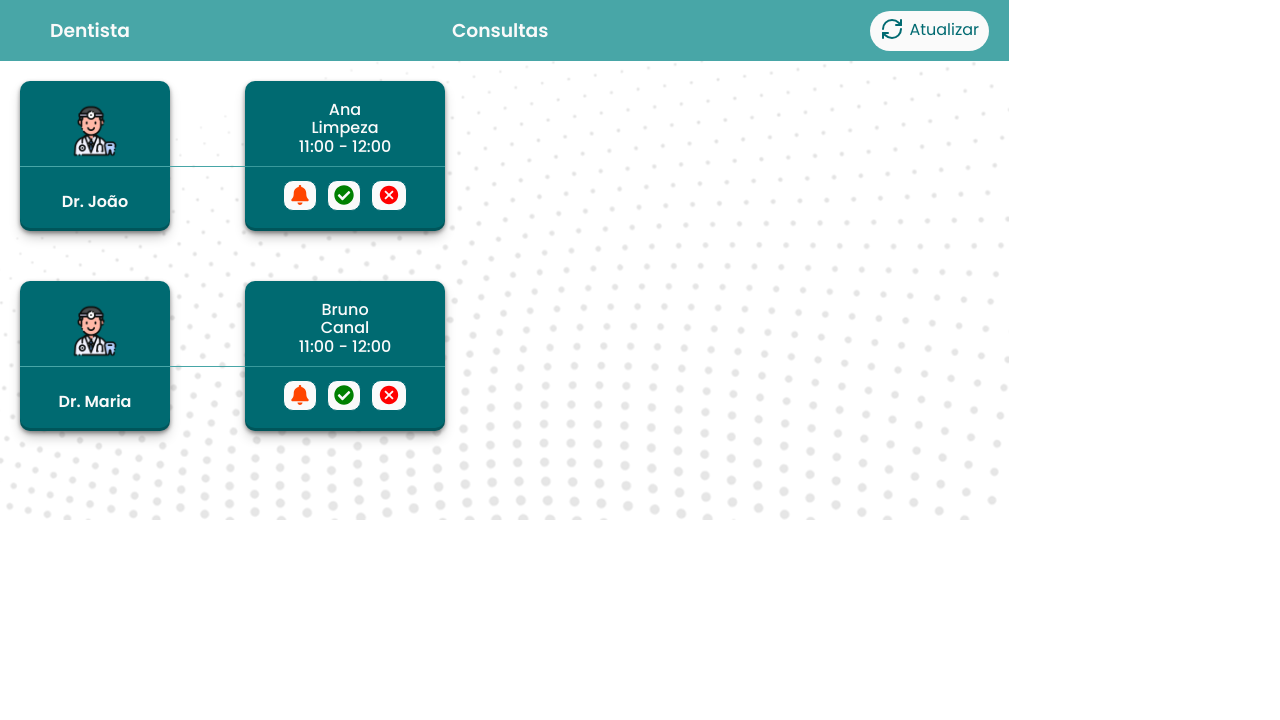
Scenario: Dashboard do Recepcionista - Resume › abre o modal com type = FINISH e dados da consulta ao clicar no botão finalizar
Note: Aguarda renderização do botão
Click the button titled "Confirmar conclusão da consulta" below "Limpeza" at x=344, y=195, box [327, 180, 361, 211]
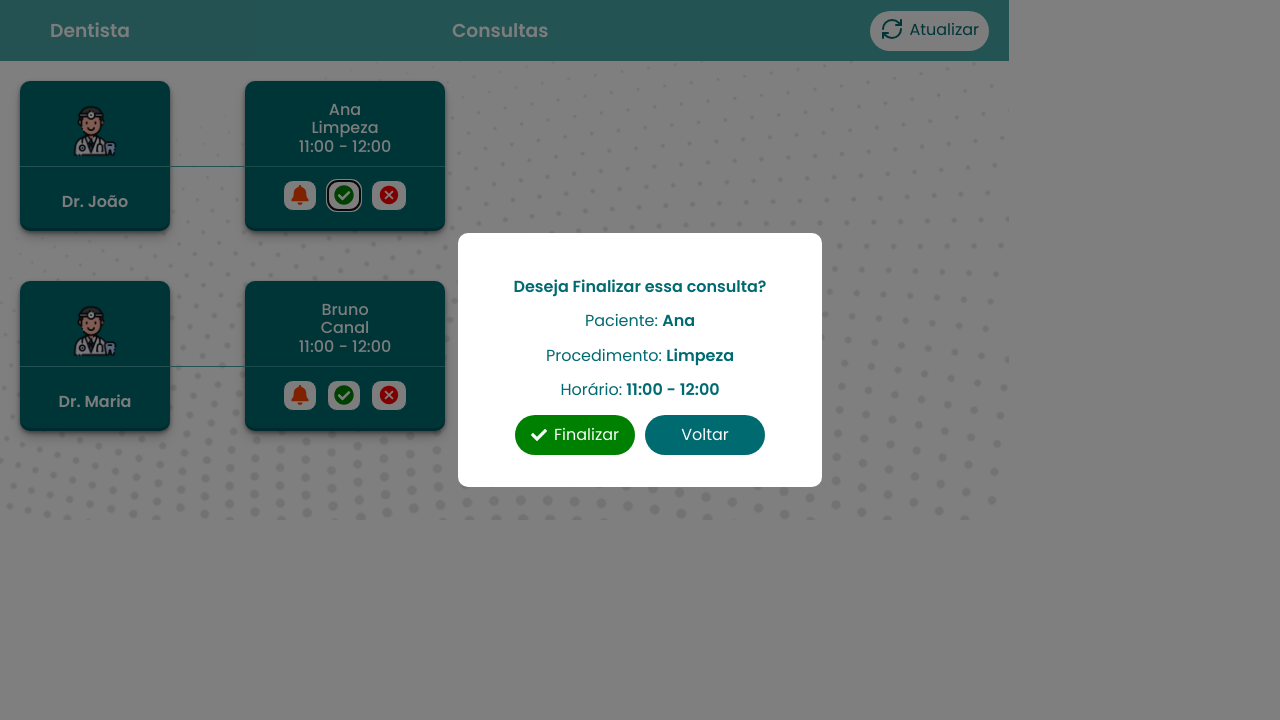
Now the dialog is shown
Now the heading "Deseja Finalizar essa consulta?" is shown, box [514, 275, 766, 298]
Now the text "Paciente: Ana" is shown, box [585, 309, 695, 332]
